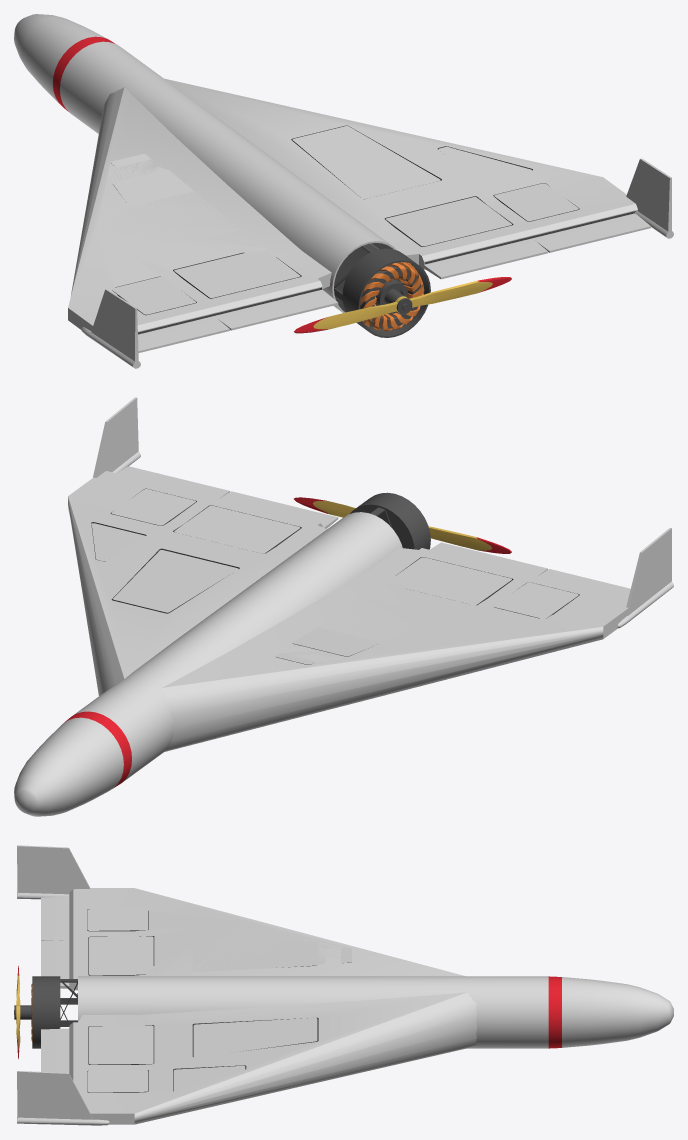
File: Shahed.fbx
3 renders of one model, top to bottom at view 1: azimuth 30°, elevation 25°; view 2: azimuth 150°, elevation 25°; view 3: azimuth 270°, elevation 25°, orthographic. The views are drawn at different scales.
Visible parts, largest first — view 1: Planer, Core, Rotor, Planer.002, Planer.001, Engine.001, Stabilizer.001, Stabilizer; view 2: Planer, Core, Stabilizer.001, Stabilizer, Planer.002, Rotor, Planer.001, Engine.001; view 3: Planer, Core, Stabilizer, Stabilizer.001, Planer.001, Rotor, Planer.002, Engine.001.
Boxes of the visible parts, x1=… form: Planer: x1=68, y1=78, x2=637, y2=334; Core: x1=14, y1=14, x2=396, y2=312; Rotor: x1=342, y1=248, x2=430, y2=337; Planer.002: x1=423, y1=213, x2=650, y2=279; Planer.001: x1=138, y1=289, x2=338, y2=352; Engine.001: x1=294, y1=277, x2=511, y2=333; Stabilizer.001: x1=81, y1=289, x2=140, y2=368; Stabilizer: x1=626, y1=158, x2=673, y2=238; Planer: x1=68, y1=471, x2=628, y2=751; Core: x1=14, y1=507, x2=402, y2=816; Stabilizer.001: x1=617, y1=528, x2=673, y2=628; Stabilizer: x1=93, y1=397, x2=140, y2=477; Planer.002: x1=117, y1=466, x2=338, y2=528; Rotor: x1=350, y1=492, x2=430, y2=549; Planer.001: x1=430, y1=542, x2=630, y2=597; Engine.001: x1=294, y1=497, x2=511, y2=553; Planer: x1=69, y1=888, x2=476, y2=1124; Core: x1=60, y1=976, x2=673, y2=1048; Stabilizer: x1=17, y1=1071, x2=109, y2=1125; Stabilizer.001: x1=17, y1=845, x2=90, y2=899; Planer.001: x1=41, y1=896, x2=69, y2=988; Rotor: x1=31, y1=976, x2=60, y2=1048; Planer.002: x1=41, y1=1028, x2=69, y2=1073; Engine.001: x1=14, y1=966, x2=32, y2=1058.
Bounding box in the file's own units: 1497 × 265 × 1829.
